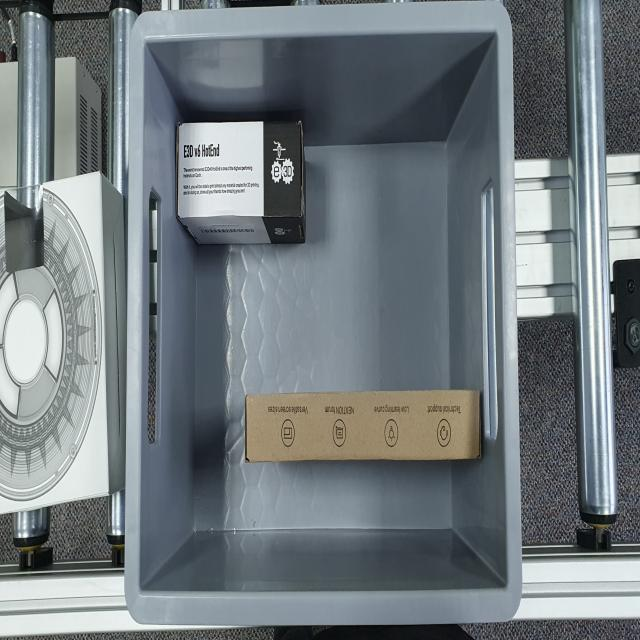box: (176, 122, 306, 246), (244, 392, 482, 459)
